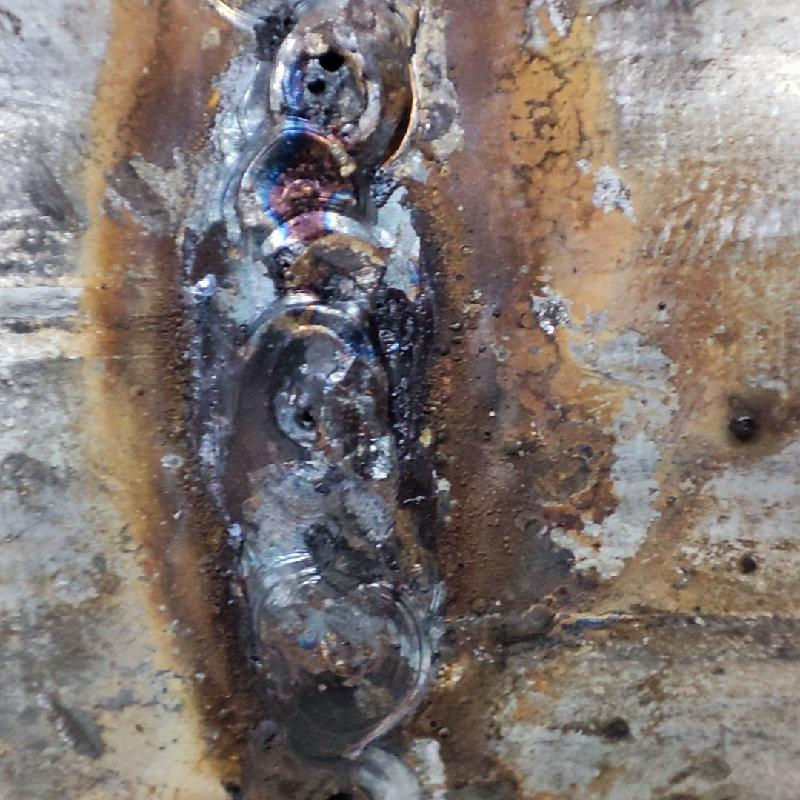Surface_pores: (293, 36, 361, 113)
crater: (231, 5, 418, 439)
